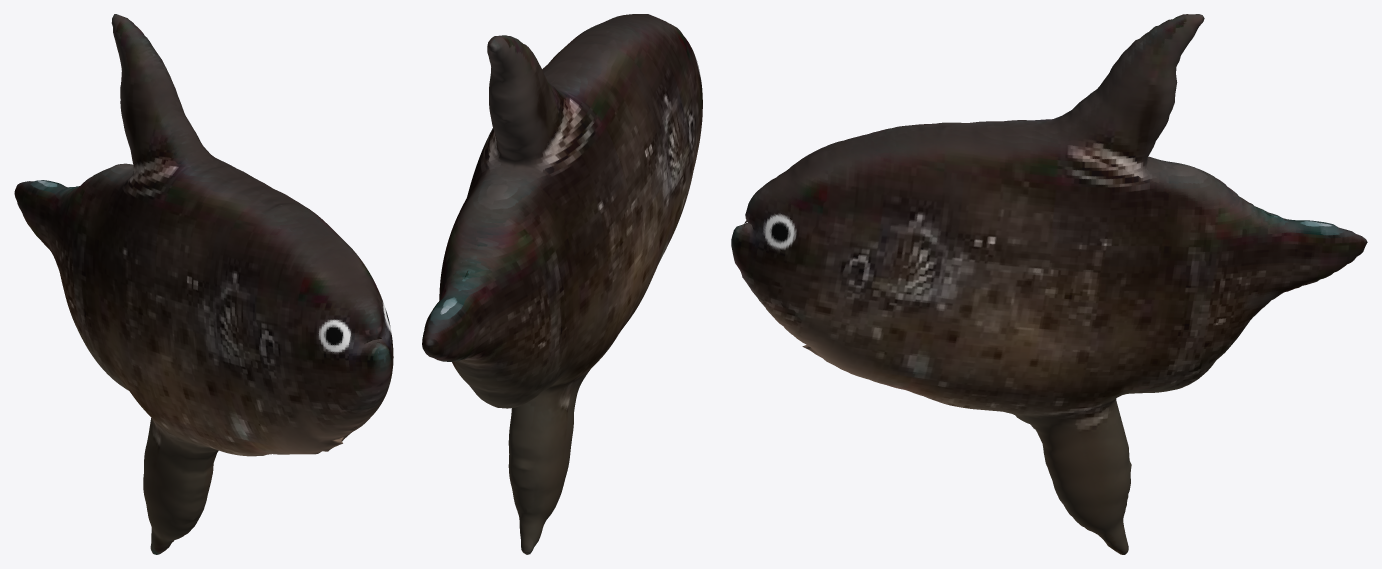
The model's file is ocean-sunfish.glb.
3 renders of one model, left to right at view 1: azimuth 30°, elevation 25°; view 2: azimuth 150°, elevation 25°; view 3: azimuth 270°, elevation 25°, orthographic. The views are drawn at different scales.
Parts seen in each view (by area): view 1: Object_5; view 2: Object_5; view 3: Object_5.
Part boxes in pixels (x1,y1,x2,y2): Object_5: [14, 14, 393, 554]; Object_5: [422, 14, 702, 554]; Object_5: [731, 14, 1367, 554].
Bounding box in the file's own units: 0.0485 × 0.1751 × 0.1873.
Materials: 1 (1 with a texture image).
